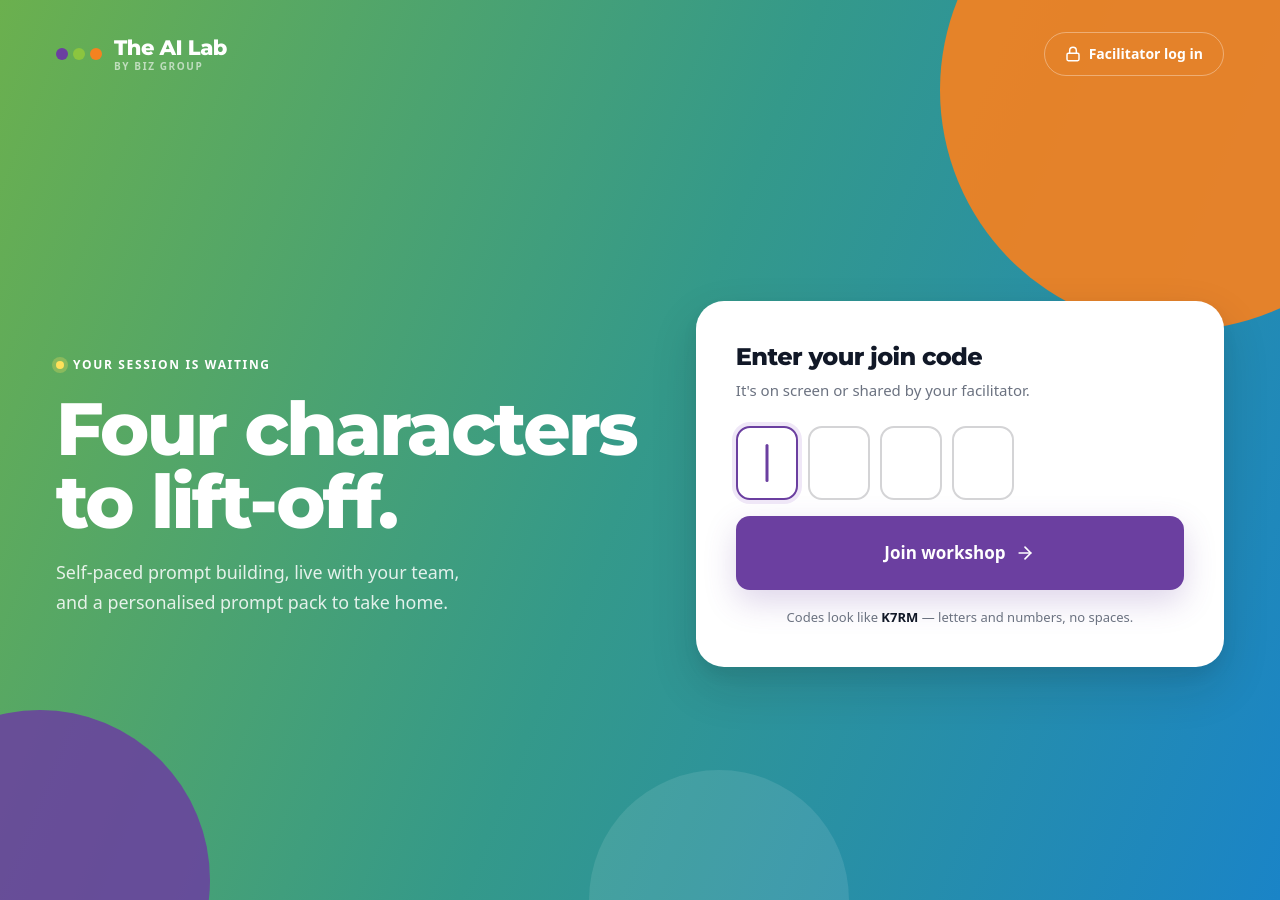
Test: HomePage › input behavior › distributes pasted text across all inputs
This screenshot has width=1280, height=900.
Simulate paste by setting multi-char value
Type "K7RM" into the field named "Join code character 1". click: (767, 462)
box: top-left (736, 426), bottom-right (798, 500)
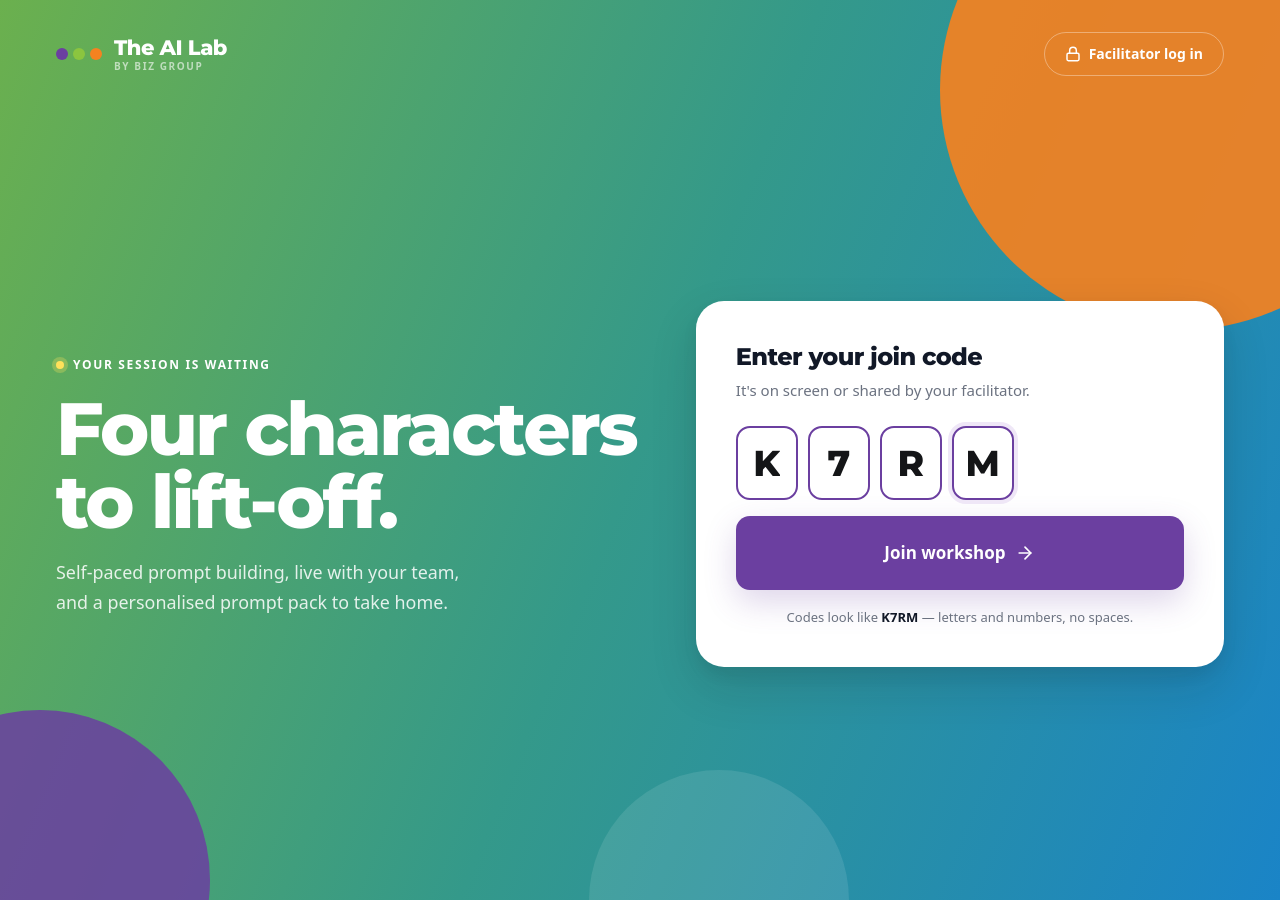
Now the field named "Join code character 1" holds "K", box top-left (736, 426), bottom-right (798, 500)
Now the field named "Join code character 2" holds "7", box top-left (808, 426), bottom-right (870, 500)
Now the field named "Join code character 3" holds "R", box top-left (880, 426), bottom-right (942, 500)
